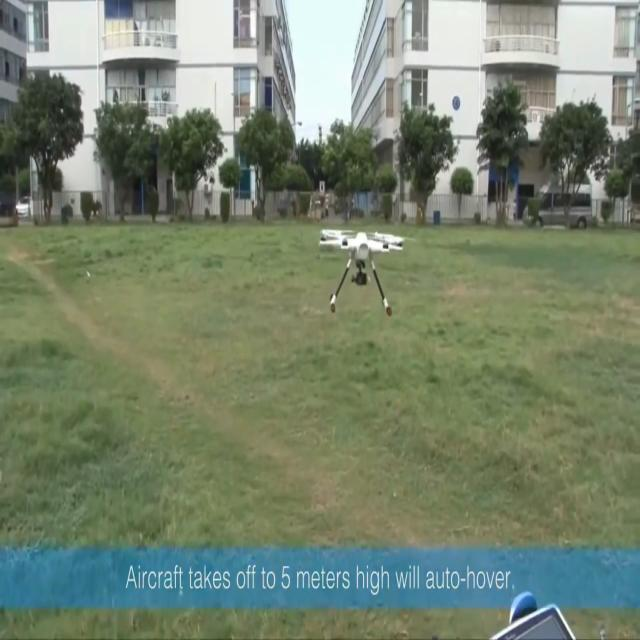drone: (318, 227, 405, 316)
